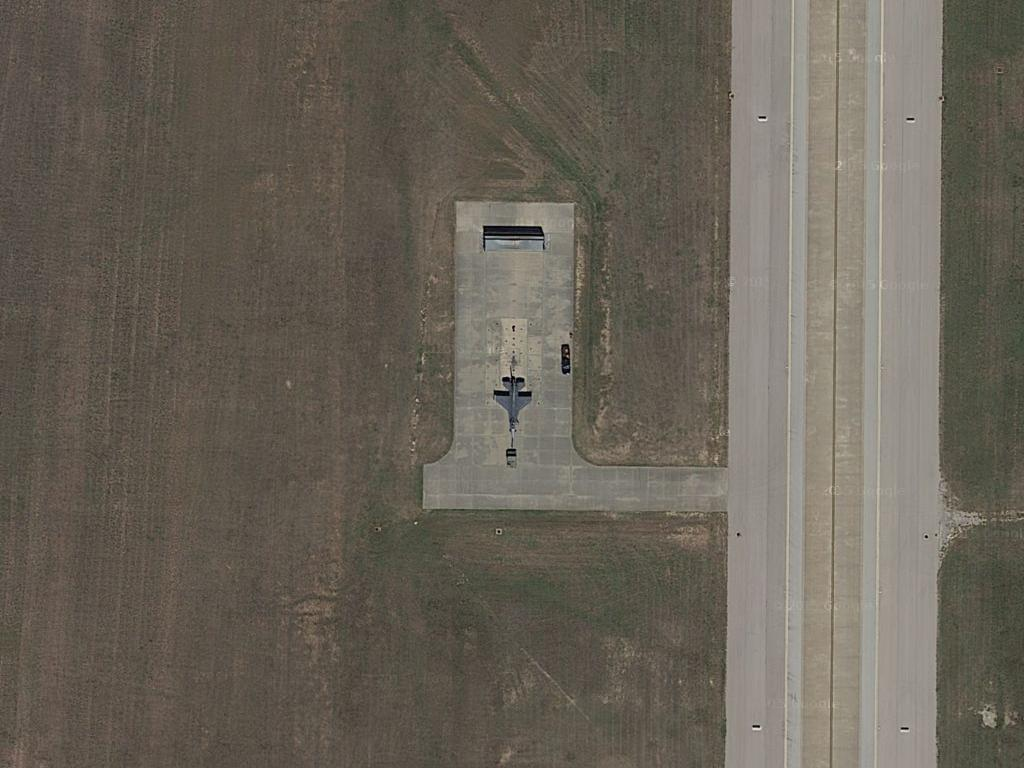F-16: (487, 367, 539, 445)
